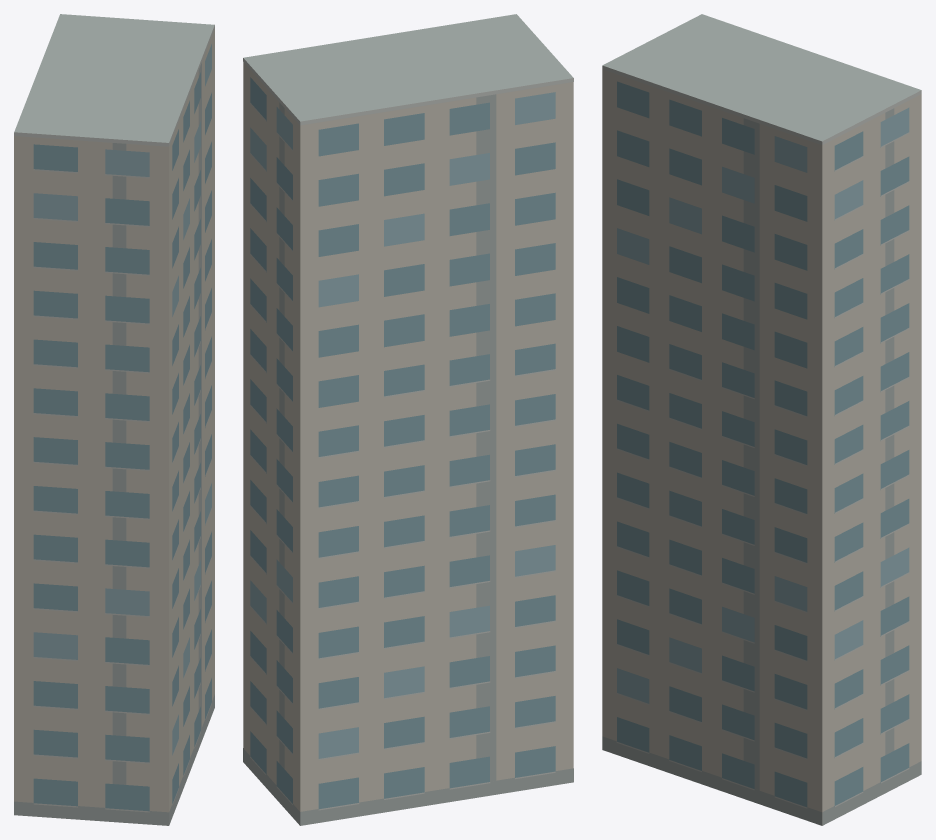
Rendered from residential-711175da-9a3c-42b6-bab0-92de27164e94.glb.
3 renders of one model, left to right at view 1: azimuth 30°, elevation 25°; view 2: azimuth 150°, elevation 25°; view 3: azimuth 270°, elevation 25°, orthographic. The views are drawn at different scales.
Parts seen in each view (by area): view 1: residential-711175da-9a3c-42b6-bab0-92de27164e94.tmp; view 2: residential-711175da-9a3c-42b6-bab0-92de27164e94.tmp; view 3: residential-711175da-9a3c-42b6-bab0-92de27164e94.tmp.
Boxes of the visible parts, left/top/right/bottom form: residential-711175da-9a3c-42b6-bab0-92de27164e94.tmp: left=14, top=14, right=214, bottom=825; residential-711175da-9a3c-42b6-bab0-92de27164e94.tmp: left=243, top=14, right=573, bottom=825; residential-711175da-9a3c-42b6-bab0-92de27164e94.tmp: left=602, top=14, right=921, bottom=825.
Bounding box in the file's own units: 17.58 × 44 × 18.62.
